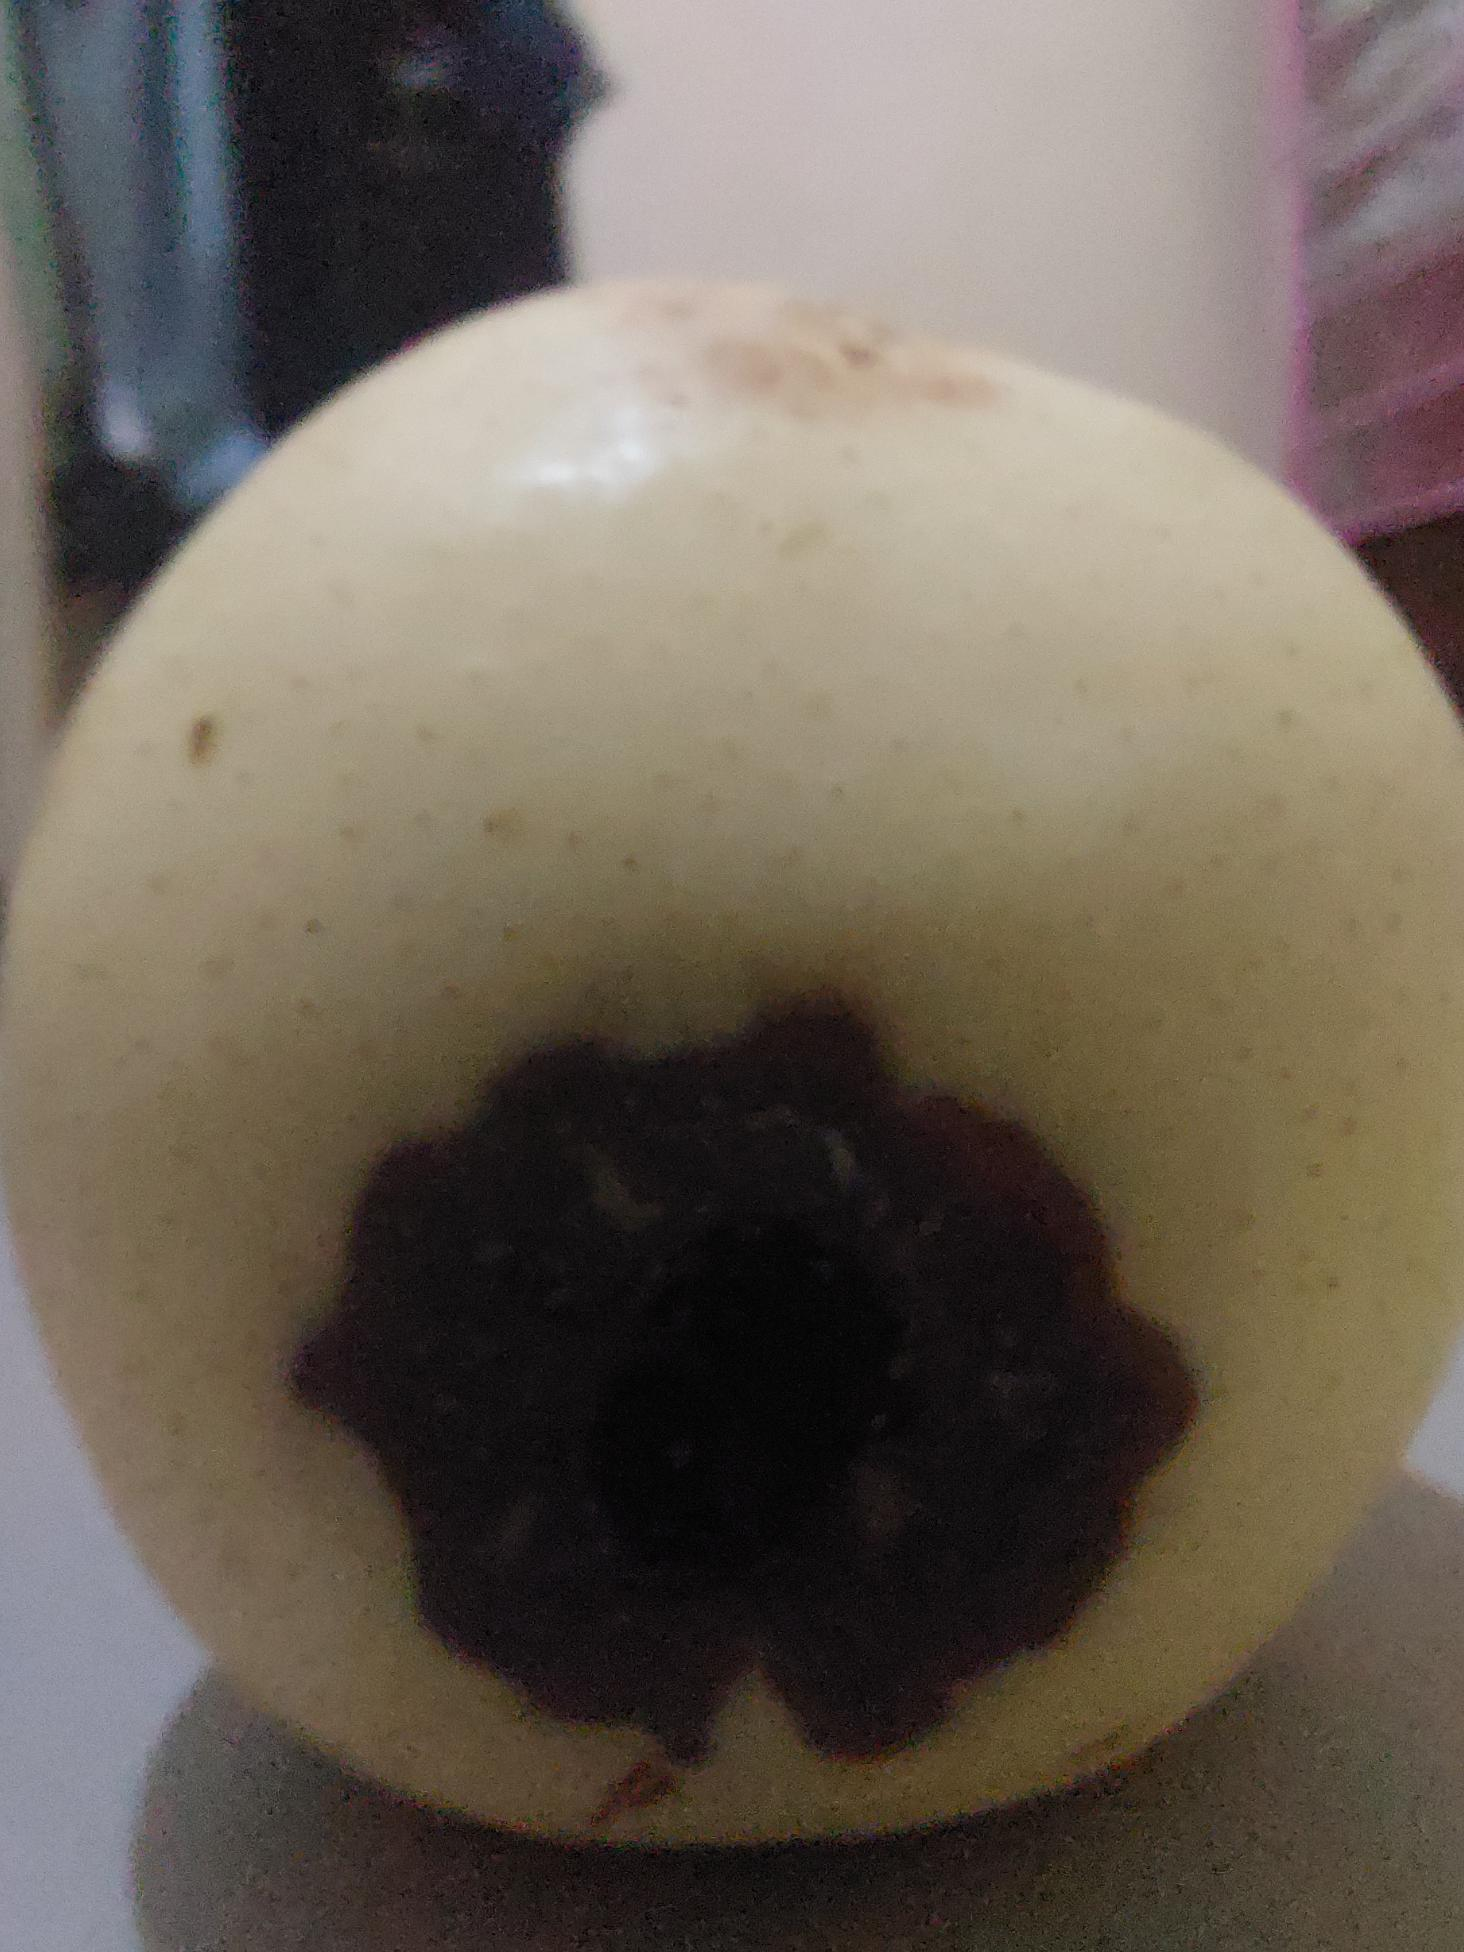Bad Pear: (0, 294, 1464, 1871)
